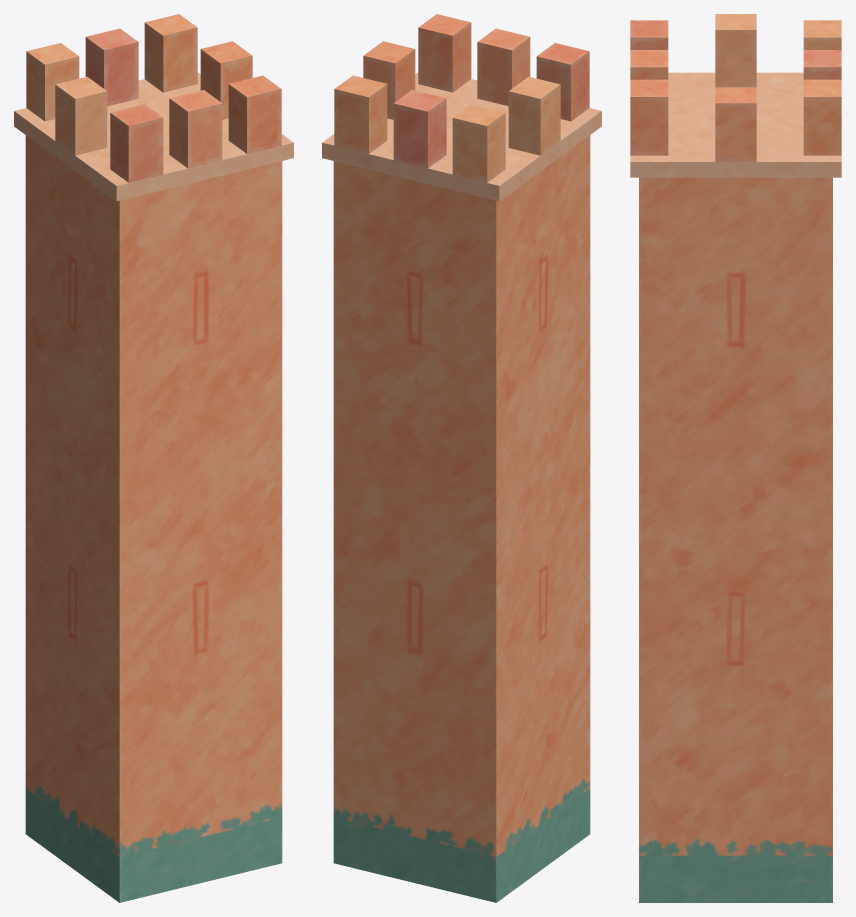
The model's file is townwall_tower_low.fbx.
3 renders of one model, left to right at view 1: azimuth 30°, elevation 25°; view 2: azimuth 150°, elevation 25°; view 3: azimuth 270°, elevation 25°, orthographic. The views are drawn at different scales.
Visible parts, largest first — view 1: townwall_tower; view 2: townwall_tower; view 3: townwall_tower.
Part boxes in pixels (x1,y1,x2,y2): townwall_tower: (14, 14, 293, 902); townwall_tower: (322, 14, 601, 902); townwall_tower: (630, 14, 841, 902).
Bounding box in the file's own units: 7.2 × 30.2 × 7.2.
Materials: 1 (1 with a texture image).
